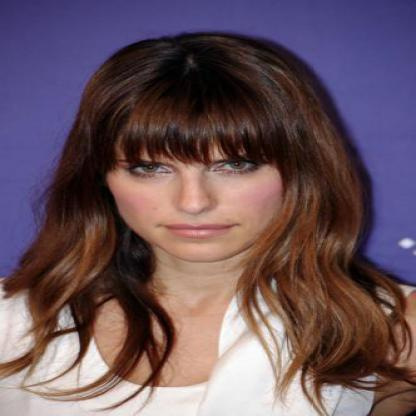long-hair: (11, 261, 382, 327)
